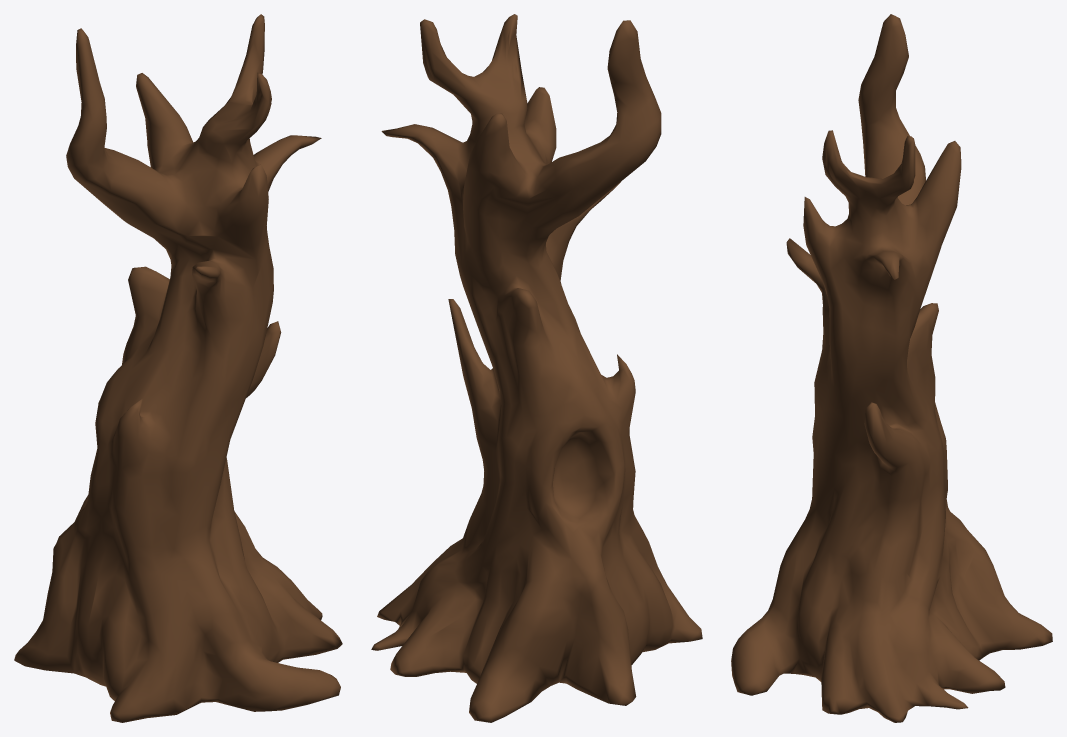
File: Tree_01.fbx
3 views of the same model, side by side, from view 1: azimuth 30°, elevation 25°; view 2: azimuth 150°, elevation 25°; view 3: azimuth 270°, elevation 25° (orthographic). The views are drawn at different scales.
Parts seen in each view (by area): view 1: Group26682; view 2: Group26682; view 3: Group26682.
Boxes of the visible parts, x1,y1,x2,y2 form: Group26682: [14, 14, 342, 722]; Group26682: [371, 14, 702, 722]; Group26682: [731, 14, 1052, 722].
Bounding box in the file's own units: 388 × 866 × 419.
